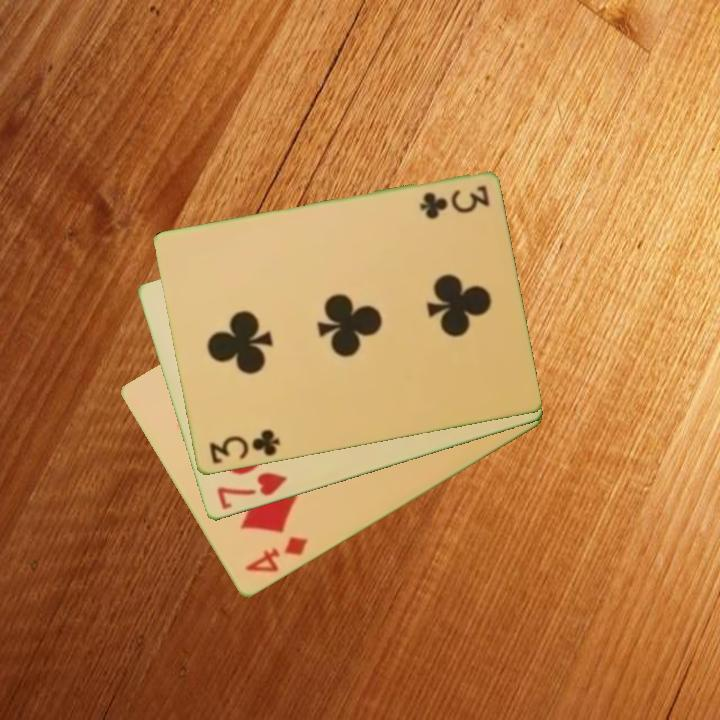3c: (205, 426, 283, 467), (415, 182, 492, 220)
4d: (241, 533, 311, 577)
7h: (213, 469, 290, 513)
